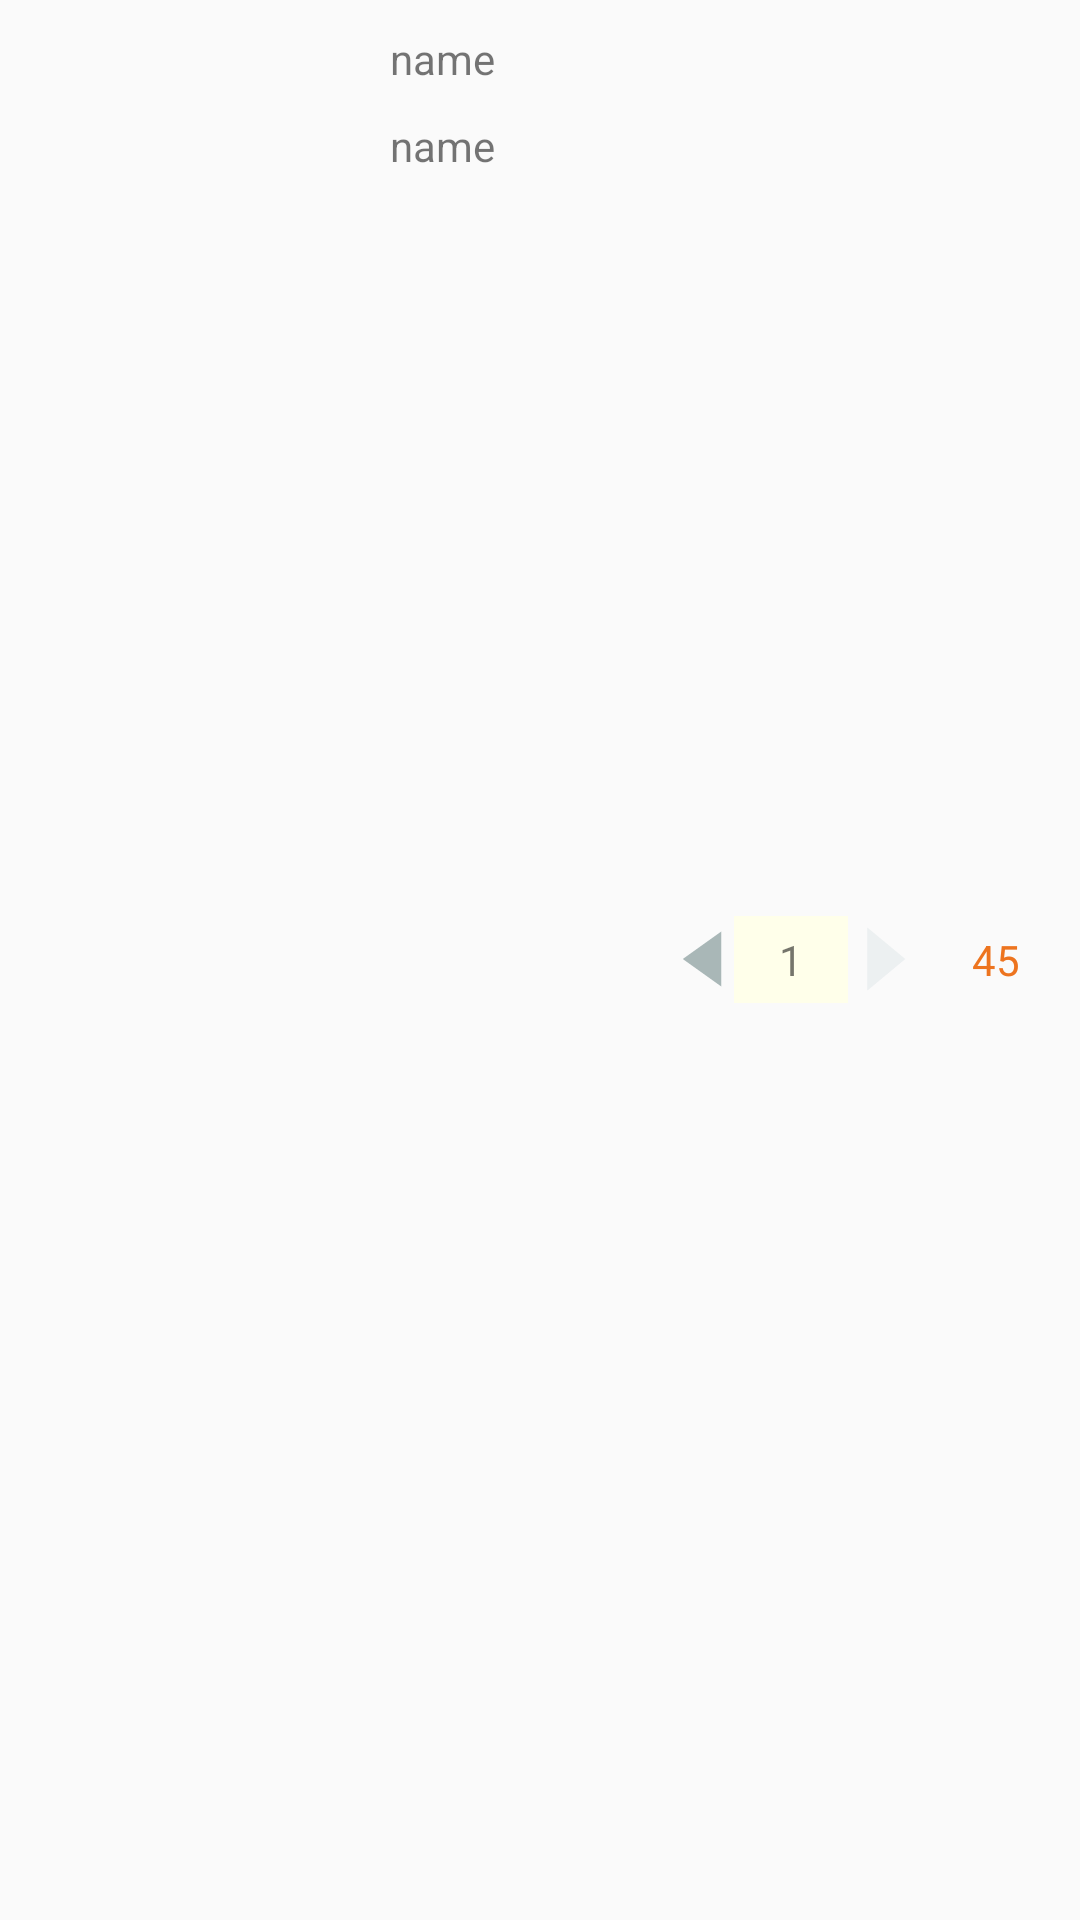

Where to tap for icons on this 1080×1920 app screen, as point (x, y):
left arr: point (702, 959)
